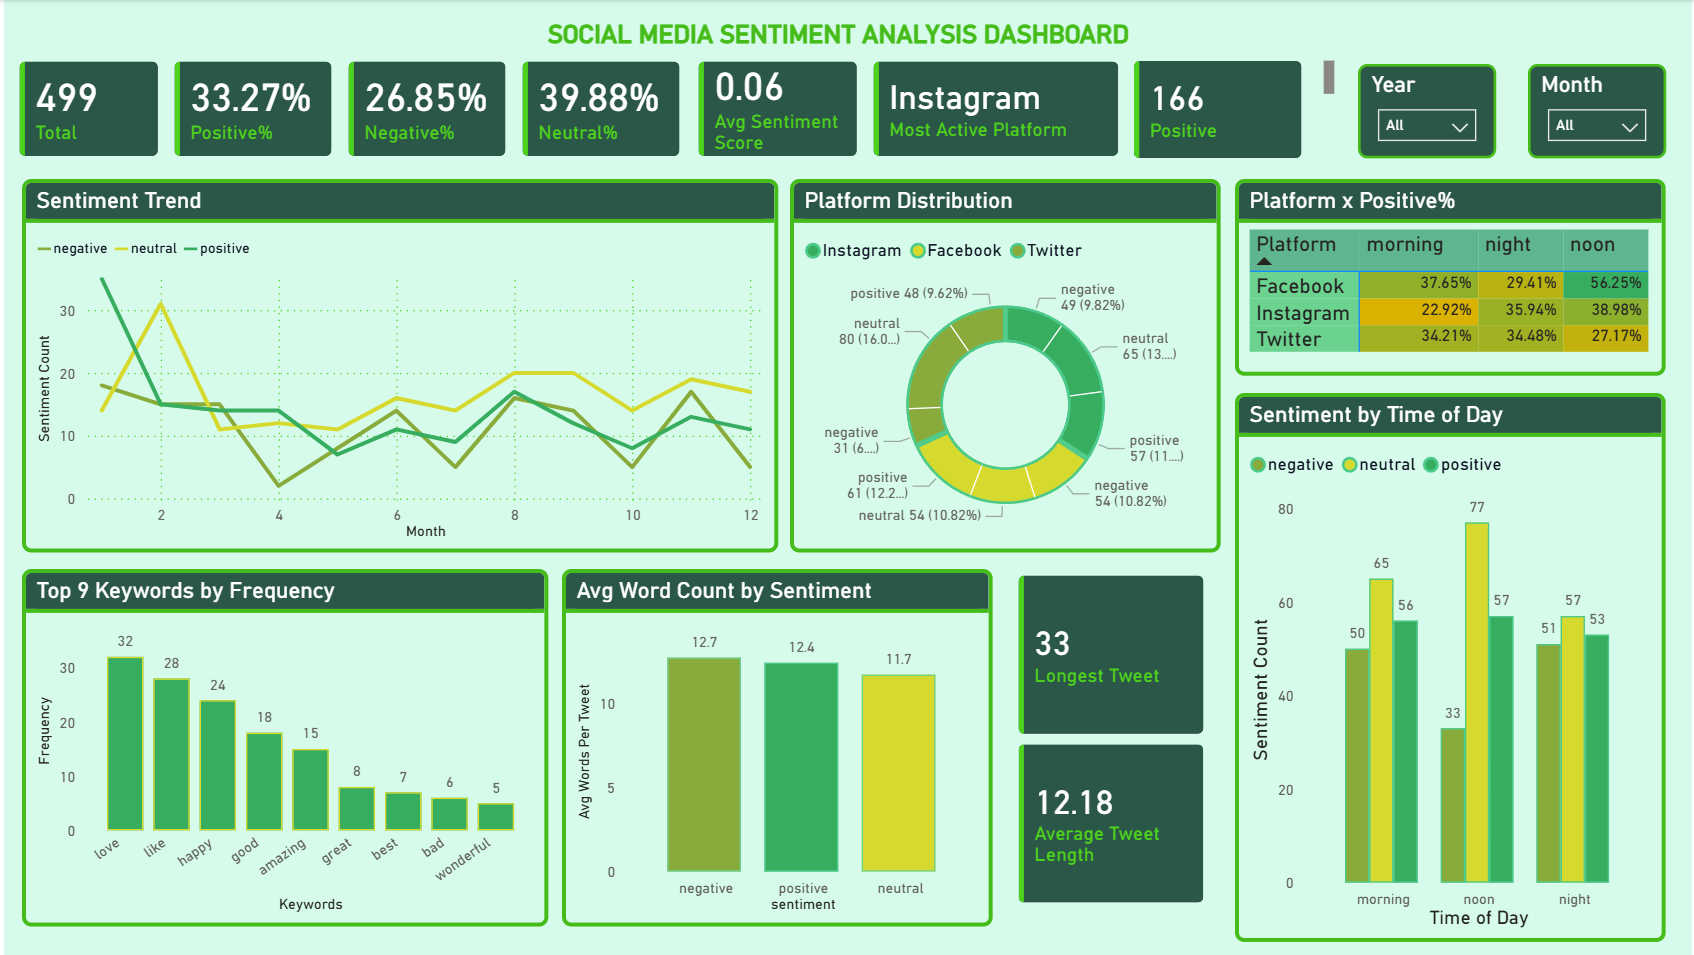

Layout of this report page (visuals, bound fields, positions):
{"tool":"powerbi","page":{"name":"Dashboard","canvas":[1280,720],"ordinal":0},"visuals":[{"type":"shape","box":[5.3,0,1270,720],"z":0},{"type":"textbox","box":[409.3,9,461.2,39.9],"z":1000},{"type":"cardVisual","fields":{"Data":["All_Measures.Total"]},"box":[0,29.3,138.4,105.3],"z":2000},{"type":"cardVisual","fields":{"Data":["All_Measures.Positive%"]},"box":[116.6,29.3,152.7,105.3],"z":3000},{"type":"cardVisual","fields":{"Data":["All_Measures.Negative%"]},"box":[247.5,29.3,152.7,105.3],"z":4000},{"type":"cardVisual","fields":{"Data":["All_Measures.Neutral%"]},"box":[378.4,29.3,152.7,105.3],"z":5000},{"type":"cardVisual","fields":{"Data":["sentiment_analysis.Avg Sentiment Score"]},"box":[510.8,29.3,153.5,105.3],"z":6000},{"type":"cardVisual","fields":{"Data":["All_Measures.Most Active Platform"]},"box":[642.5,29.3,218.2,105.3],"z":7000},{"type":"lineChart","title":"Sentiment Trend","fields":{"Series":["sentiment_analysis.sentiment"],"Category":["sentiment_analysis.Year Hierarchy.Year","sentiment_analysis.Year Hierarchy.Month","sentiment_analysis.Year Hierarchy.Day"],"Y":["All_Measures.Total"]},"box":[18.8,134.7,568.8,281.4],"z":8000},{"type":"slicer","title":"Year","fields":{"Values":["sentiment_analysis.Year"]},"box":[1023.9,48.2,103.8,71.5],"z":9000},{"type":"slicer","title":"Month","fields":{"Values":["sentiment_analysis.Month Name"]},"box":[1151.8,48.2,103.8,71.5],"z":10000},{"type":"donutChart","title":"Platform Distribution","fields":{"Y":["All_Measures.Total"],"Category":["sentiment_analysis.Platform"],"Series":["sentiment_analysis.sentiment"]},"box":[596.6,134.7,324.3,281.4],"z":11000},{"type":"clusteredColumnChart","title":"Sentiment by Time of Day","fields":{"Category":["sentiment_analysis.Time of Tweet"],"Series":["sentiment_analysis.sentiment"],"Y":["All_Measures.Total"]},"box":[931.4,295.7,324.3,413],"z":12000},{"type":"cardVisual","title":"Total Count of Each Sentiment","fields":{"Data":["All_Measures.Positive","All_Measures.Neutral","All_Measures.Negative"]},"box":[838.1,28.6,173,111.3],"z":13000},{"type":"pivotTable","title":"Platform x Positive%","fields":{"Rows":["sentiment_analysis.Platform"],"Values":["All_Measures.Positive%"],"Columns":["sentiment_analysis.Time of Tweet"]},"box":[931.4,134.7,324.3,148.2],"z":14000},{"type":"clusteredColumnChart","title":"Top 9 Keywords by Frequency","fields":{"Category":["sentiment_analysis (2).text"],"Y":["CountNonNull(sentiment_analysis (2).text)"]},"box":[18.8,428.1,395.7,268.6],"z":15000},{"type":"clusteredColumnChart","title":"Avg Word Count by Sentiment","fields":{"Category":["sentiment_analysis.sentiment"],"Y":["sentiment_analysis.Avg Words Per Tweet"]},"box":[425.1,428.1,324.3,268.6],"z":16000},{"type":"cardVisual","title":"Total Count of Each Sentiment","fields":{"Data":["All_Measures.Longest Tweet","sentiment_analysis.Average Tweet Length"]},"box":[751.6,416.1,173,280.6],"z":17000}]}

Visuals, with their boxes in screenshot pixels (x1, y1, x2, y2), scaled from the page's 1280x720 canvas onto the 1694x955 screenshot:
shape: x1=7, y1=0, x2=1688, y2=954
textbox: x1=542, y1=12, x2=1152, y2=65
cardVisual - All_Measures.Total: x1=0, y1=39, x2=183, y2=179
cardVisual - All_Measures.Positive%: x1=154, y1=39, x2=356, y2=179
cardVisual - All_Measures.Negative%: x1=328, y1=39, x2=530, y2=179
cardVisual - All_Measures.Neutral%: x1=501, y1=39, x2=703, y2=179
cardVisual - sentiment_analysis.Avg Sentiment Score: x1=676, y1=39, x2=879, y2=179
cardVisual - All_Measures.Most Active Platform: x1=850, y1=39, x2=1139, y2=179
"Sentiment Trend" lineChart: x1=25, y1=179, x2=778, y2=552
"Year" slicer: x1=1355, y1=64, x2=1492, y2=159
"Month" slicer: x1=1524, y1=64, x2=1662, y2=159
"Platform Distribution" donutChart: x1=790, y1=179, x2=1219, y2=552
"Sentiment by Time of Day" clusteredColumnChart: x1=1233, y1=392, x2=1662, y2=940
"Total Count of Each Sentiment" cardVisual: x1=1109, y1=38, x2=1338, y2=186
"Platform x Positive%" pivotTable: x1=1233, y1=179, x2=1662, y2=375
"Top 9 Keywords by Frequency" clusteredColumnChart: x1=25, y1=568, x2=549, y2=924
"Avg Word Count by Sentiment" clusteredColumnChart: x1=563, y1=568, x2=992, y2=924
"Total Count of Each Sentiment" cardVisual: x1=995, y1=552, x2=1224, y2=924
